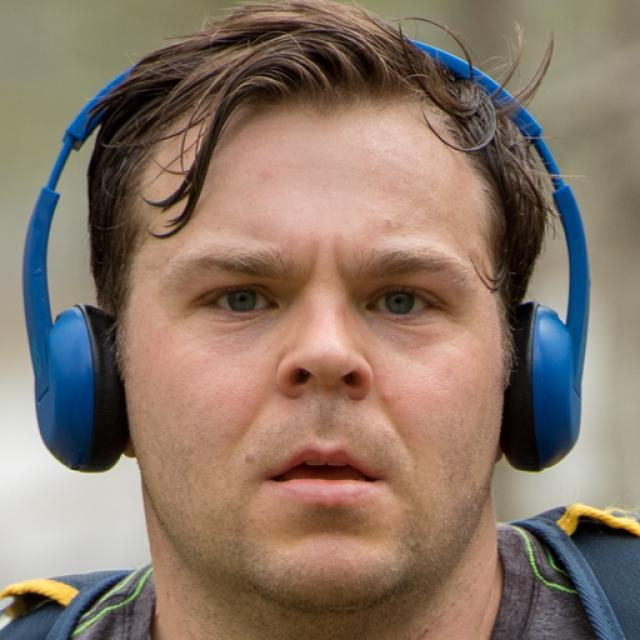disgust: (121, 88, 506, 608)
